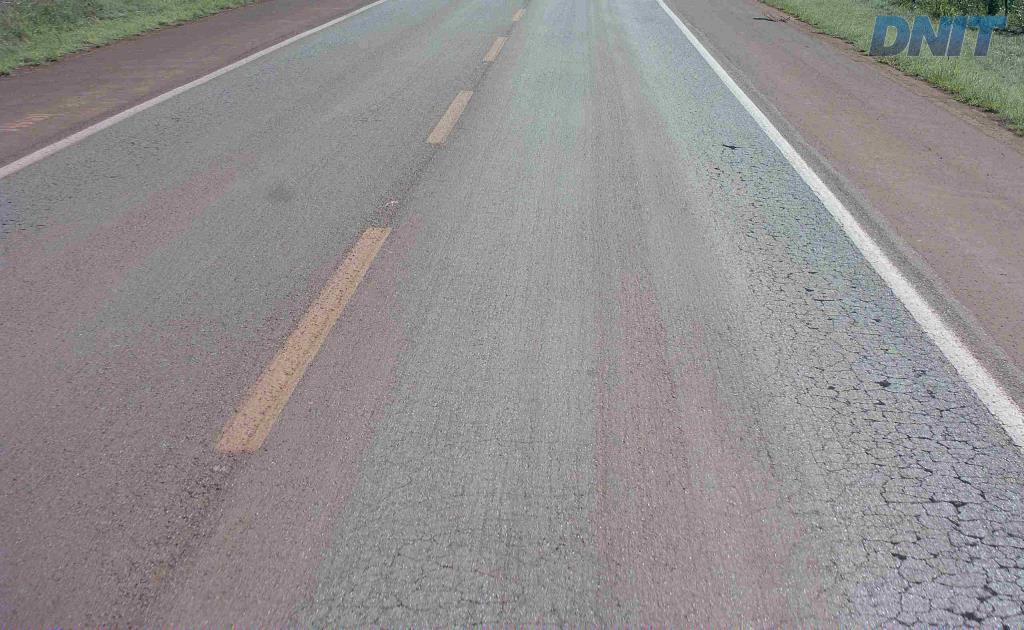crack: (910, 466, 1007, 558)
